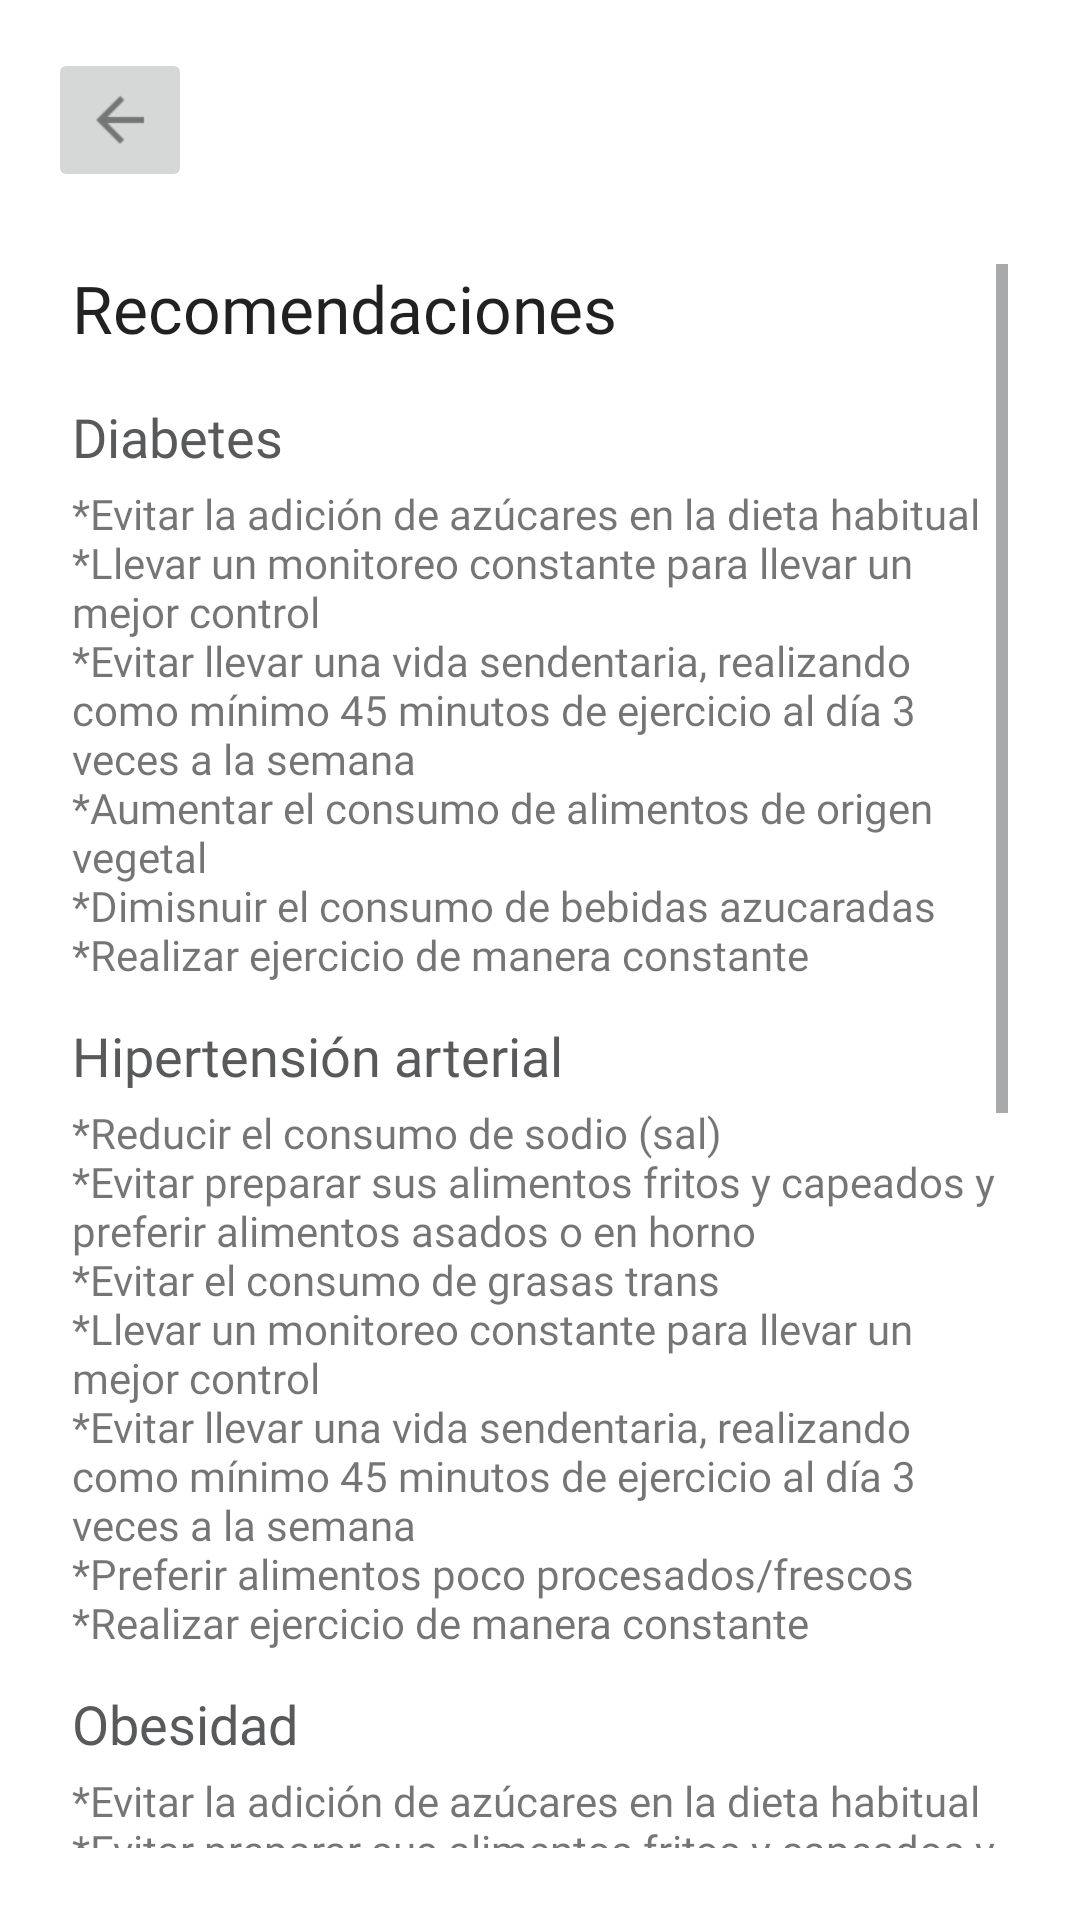

Icons on this 1080 × 1920 Android screen, each with its box as bbox(x1, y1, x2, y2):
Regresar: bbox(60, 66, 180, 174)
